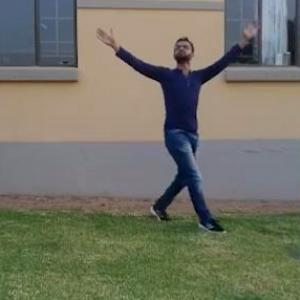takeoff: (102, 26, 261, 232)
